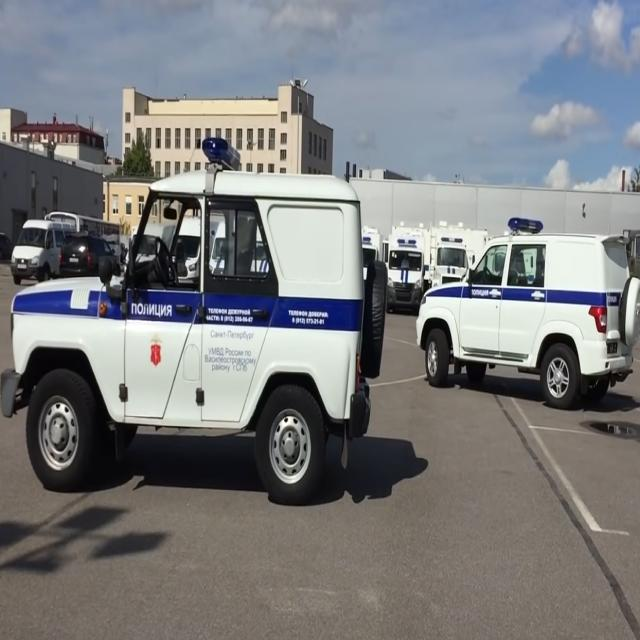non emergency car: (10, 210, 65, 289), (61, 230, 122, 292)
police car: (1, 137, 389, 507), (415, 216, 640, 410), (384, 223, 429, 320), (432, 234, 472, 291)
